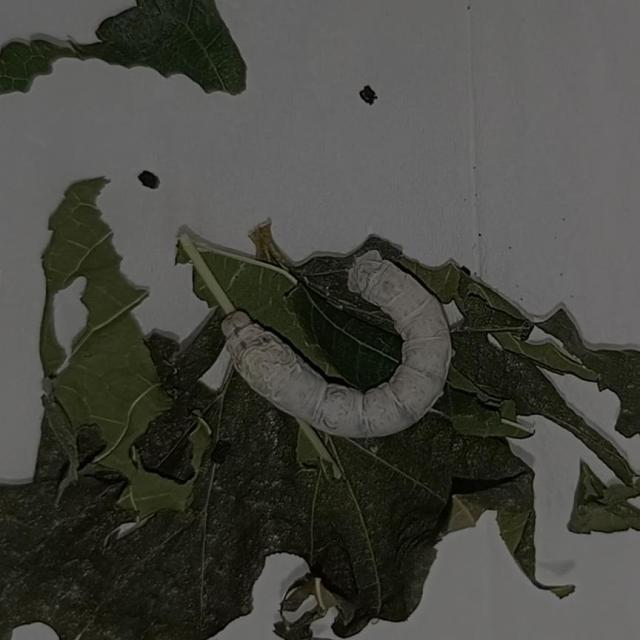Healthy: (187, 230, 498, 484)
